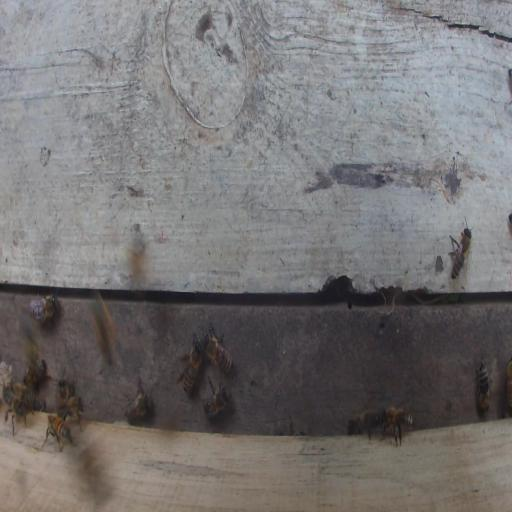nonpollenbee: (4, 387, 39, 430), (179, 334, 204, 394), (448, 219, 472, 281), (204, 324, 233, 375), (381, 405, 414, 447), (42, 412, 75, 453), (58, 381, 84, 430), (202, 377, 229, 418), (124, 380, 151, 421), (348, 410, 383, 439), (28, 294, 58, 324), (476, 358, 490, 412), (23, 358, 47, 389), (58, 375, 70, 404), (506, 356, 512, 412)
pollenbee: (91, 293, 116, 368)
